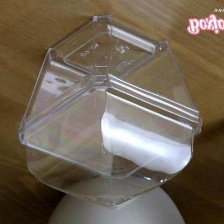glass: (9, 10, 207, 213)
